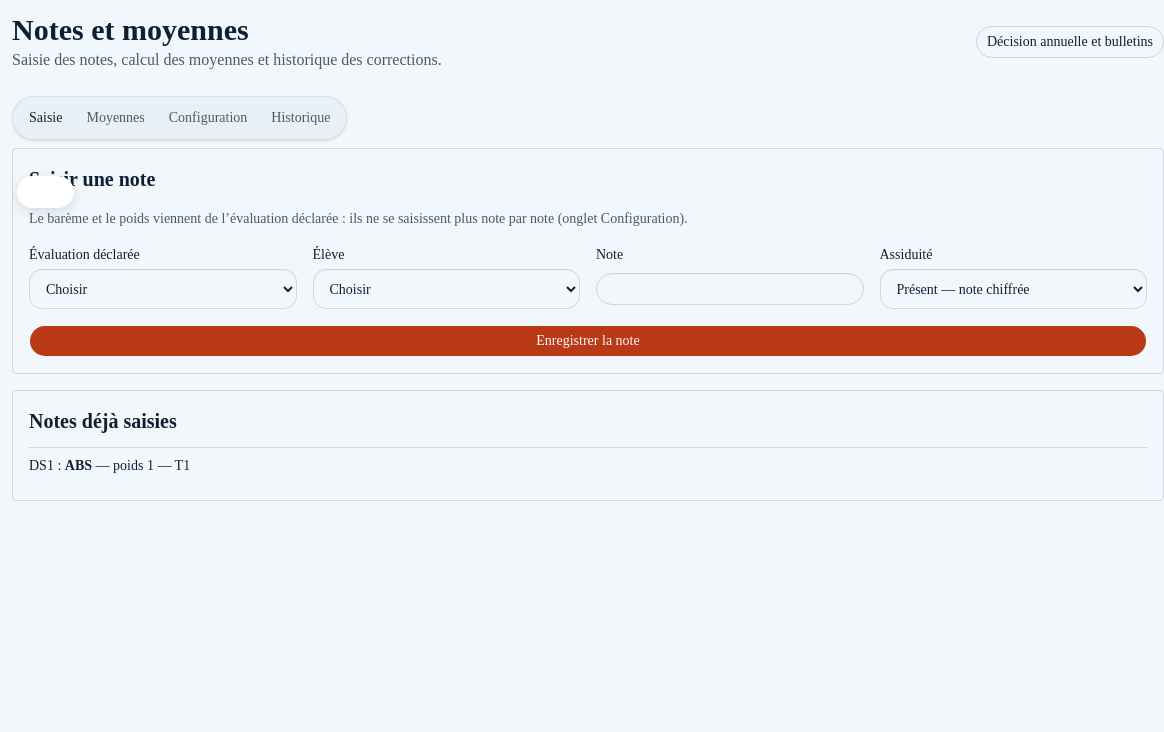
Test: place la configuration des règles dans un onglet dédié
Step 1. Click the tab "Configuration" → coordinates (208, 118), box [157, 102, 259, 134]
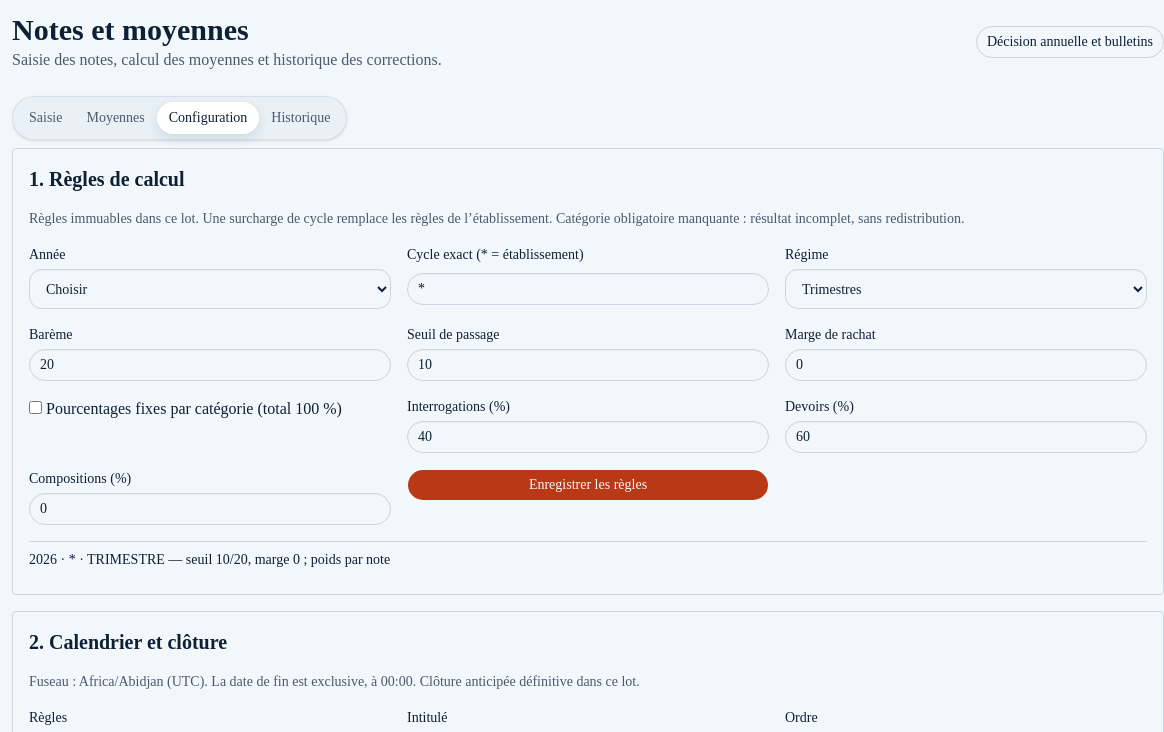
Check: the number field named "rescueMargin" is shown, box [785, 349, 1147, 381]
Check: the number field named "scale" is shown, box [29, 349, 391, 381]
